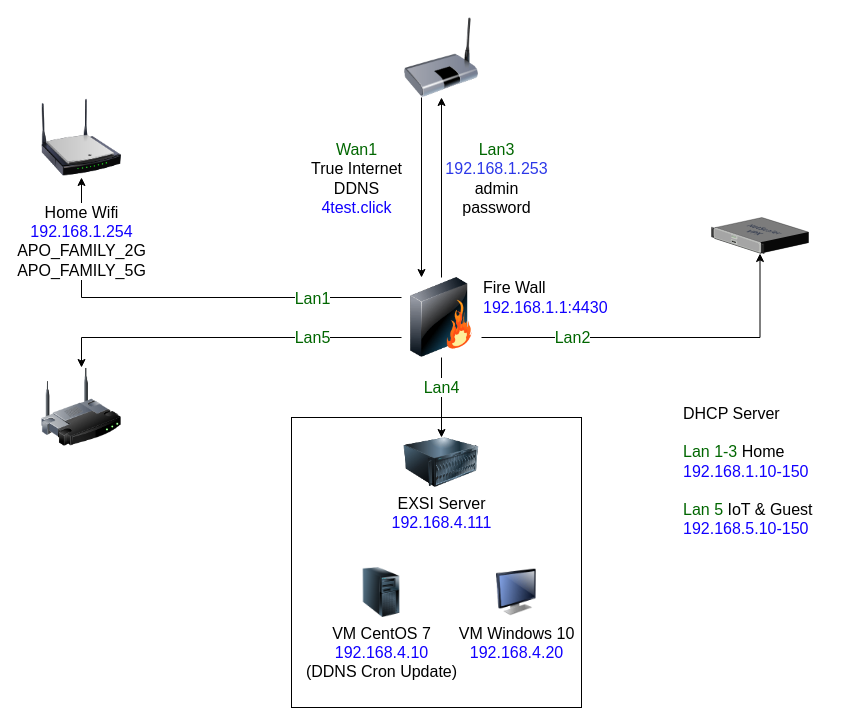
Image size: 859x725. Some labels were removed from this diagram. The shapes that lost their labels are listed below. From the top down, each one's centre as x and y in pixels, then its label:
(759,235): NVR HikVision 192.168.1.12
(81,407): IoT Wifi 192.168.5.254 apohome2g Guest wifi APO_VIP
